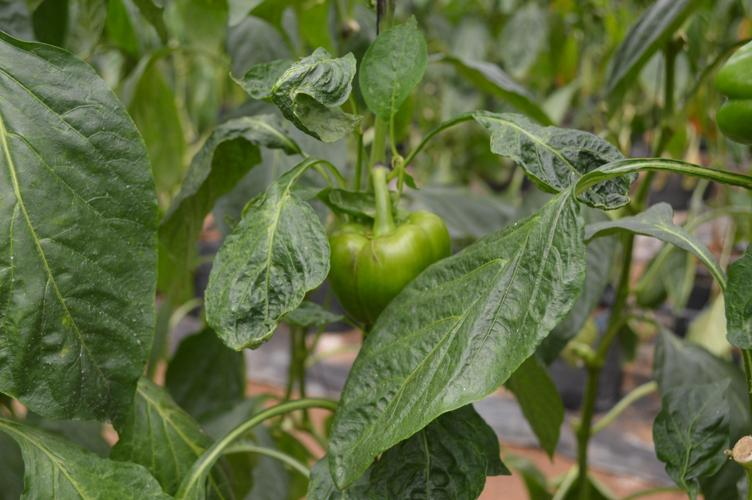BellPepper: (326, 213, 450, 320)
